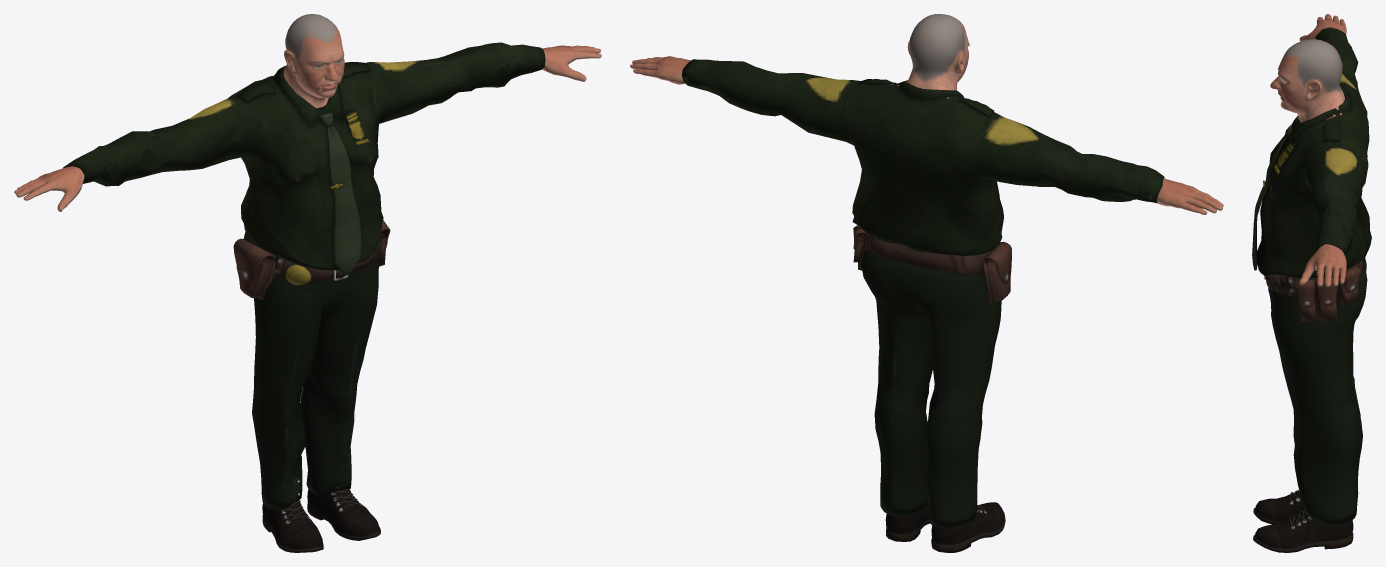
The model's file is general.obj.
3 renders of one model, left to right at view 1: azimuth 30°, elevation 25°; view 2: azimuth 150°, elevation 25°; view 3: azimuth 270°, elevation 25°, orthographic. The views are drawn at different scales.
Visible parts, largest first — view 1: Tops, Bottoms, Body, Shoes; view 2: Tops, Bottoms, Body, Shoes; view 3: Bottoms, Tops, Body, Shoes.
Boxes of the visible parts, x1,y1,x2,y2 form: Tops: (63, 42, 545, 275); Bottoms: (233, 217, 390, 509); Body: (14, 14, 601, 211); Shoes: (262, 478, 380, 552); Tops: (681, 59, 1164, 255); Bottoms: (853, 225, 1011, 528); Body: (630, 14, 1223, 214); Shoes: (885, 495, 1005, 552); Bottoms: (1263, 258, 1367, 526); Tops: (1252, 27, 1371, 278); Body: (1270, 14, 1346, 286); Shoes: (1253, 490, 1353, 552).
Size of the model in its own units: 211 by 177 by 39.17.
1 material, 1 textured.
